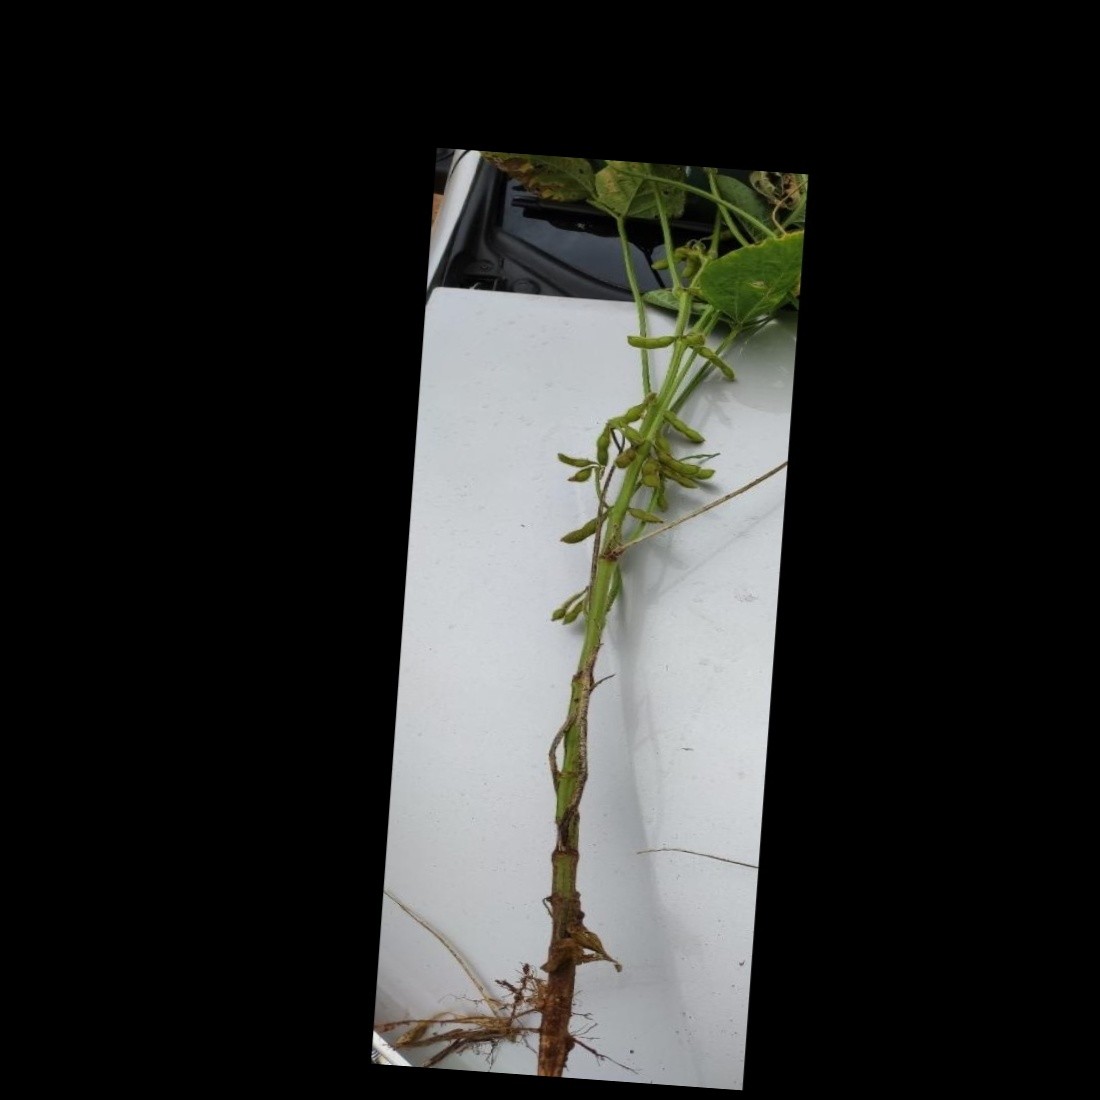pod: (687, 343, 741, 382), (558, 509, 610, 548), (662, 409, 709, 444), (546, 449, 600, 470), (625, 329, 677, 351), (562, 595, 591, 630), (655, 242, 687, 272), (594, 426, 615, 468), (626, 506, 668, 525), (638, 455, 662, 488), (563, 464, 597, 486), (612, 445, 640, 470), (543, 599, 566, 625), (680, 251, 697, 280)
soy: (405, 89, 799, 1047)
